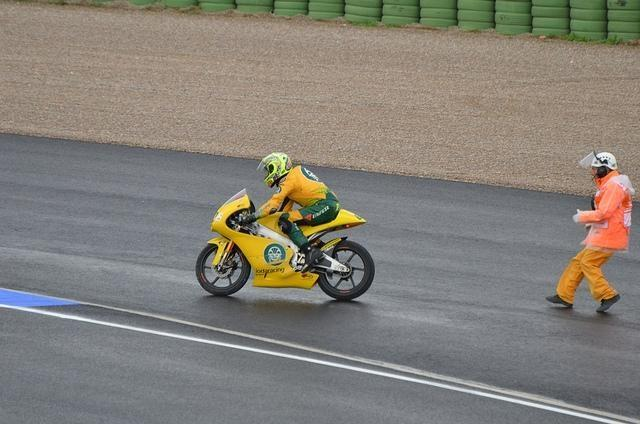motorcycle: (195, 185, 375, 301)
